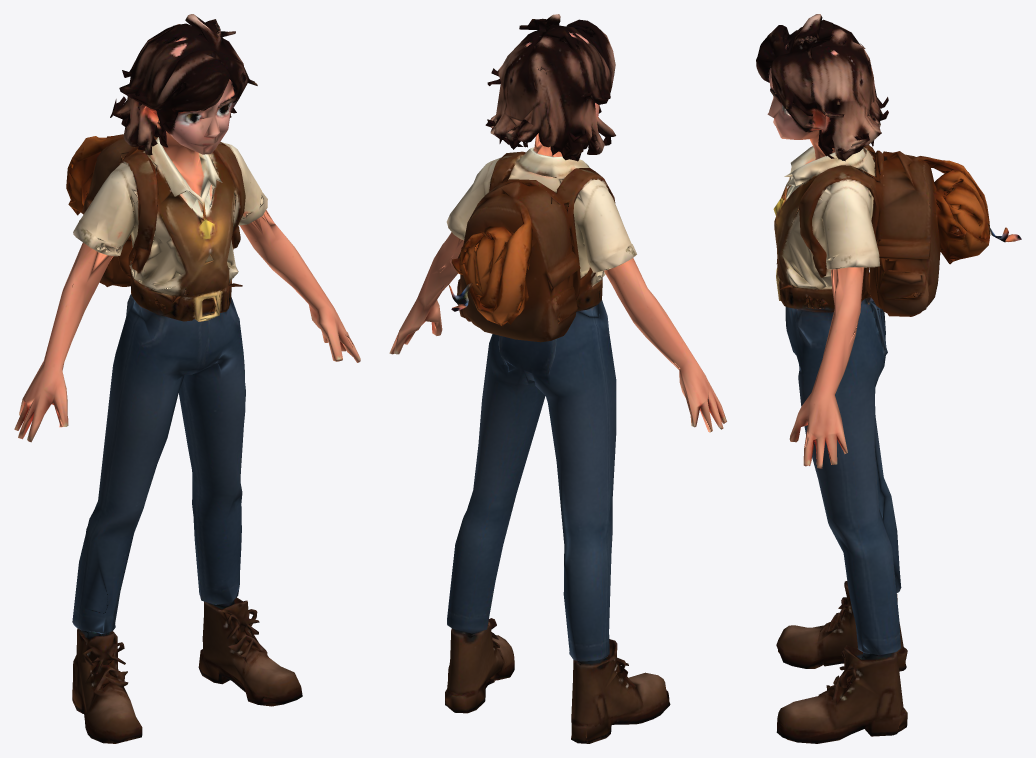
The model's file is player.glb.
The picture shows the model from 3 angles, left to right: view 1: azimuth 30°, elevation 25°; view 2: azimuth 150°, elevation 25°; view 3: azimuth 270°, elevation 25°; orthographic projection. The views are drawn at different scales.
Visible parts, largest first — view 1: player, trousers, hair, tunic, boots, backpack; view 2: trousers, player, hair, boots, tunic, backpack; view 3: player, trousers, boots, tunic, hair, backpack.
Part boxes in pixels (x1,y1,x2,y2): player: (14,14,360,679); trousers: (72,309,245,634); hair: (110,14,257,139); tunic: (73,137,267,320); boots: (72,631,302,743); backpack: (66,136,112,215); trousers: (447,324,616,661); player: (389,14,726,716); hair: (486,15,615,151); boots: (445,635,670,743); tunic: (446,147,636,285); backpack: (448,222,531,325); player: (767,14,948,696); trousers: (785,311,901,655); boots: (776,613,907,743); tunic: (774,146,880,298); hair: (756,14,888,145); backpack: (936,159,1021,264).
Size of the model in its own units: 0.8625 by 1.7 by 0.5971.
1 material, 1 textured.
